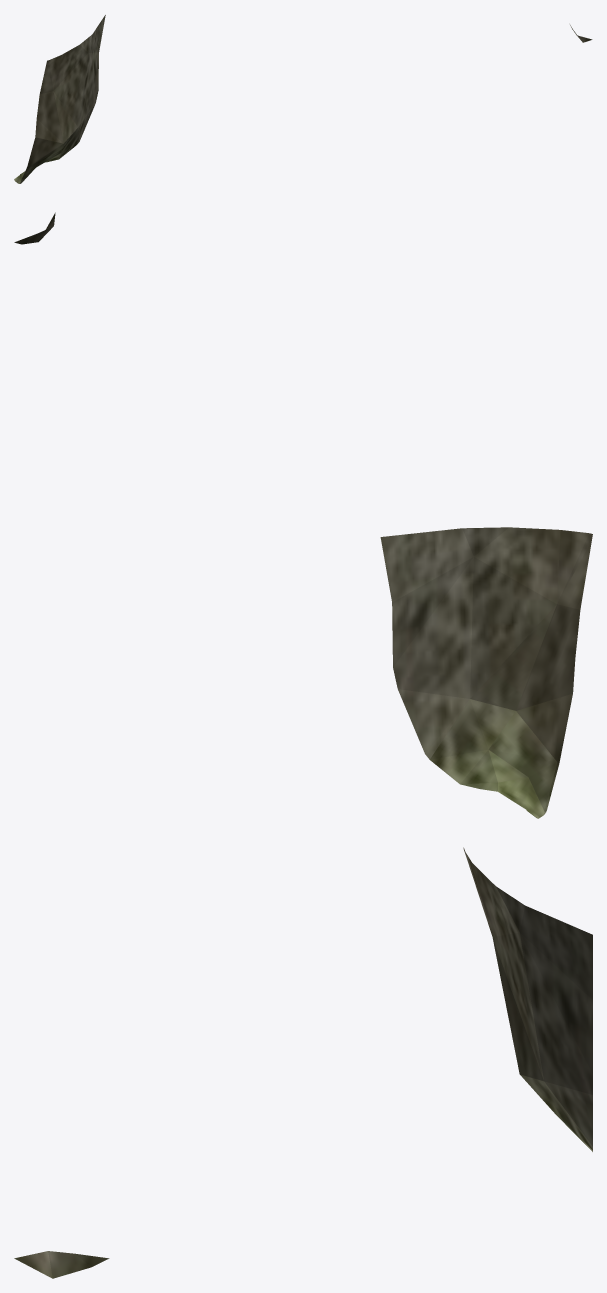
3 renders of one model, top to bottom at view 1: azimuth 30°, elevation 25°; view 2: azimuth 150°, elevation 25°; view 3: azimuth 270°, elevation 25°, orthographic. The views are drawn at different scales.
Bounding box in the file's own units: 5.9 × 1.89 × 3.51.
Materials: 1 (1 with a texture image).
